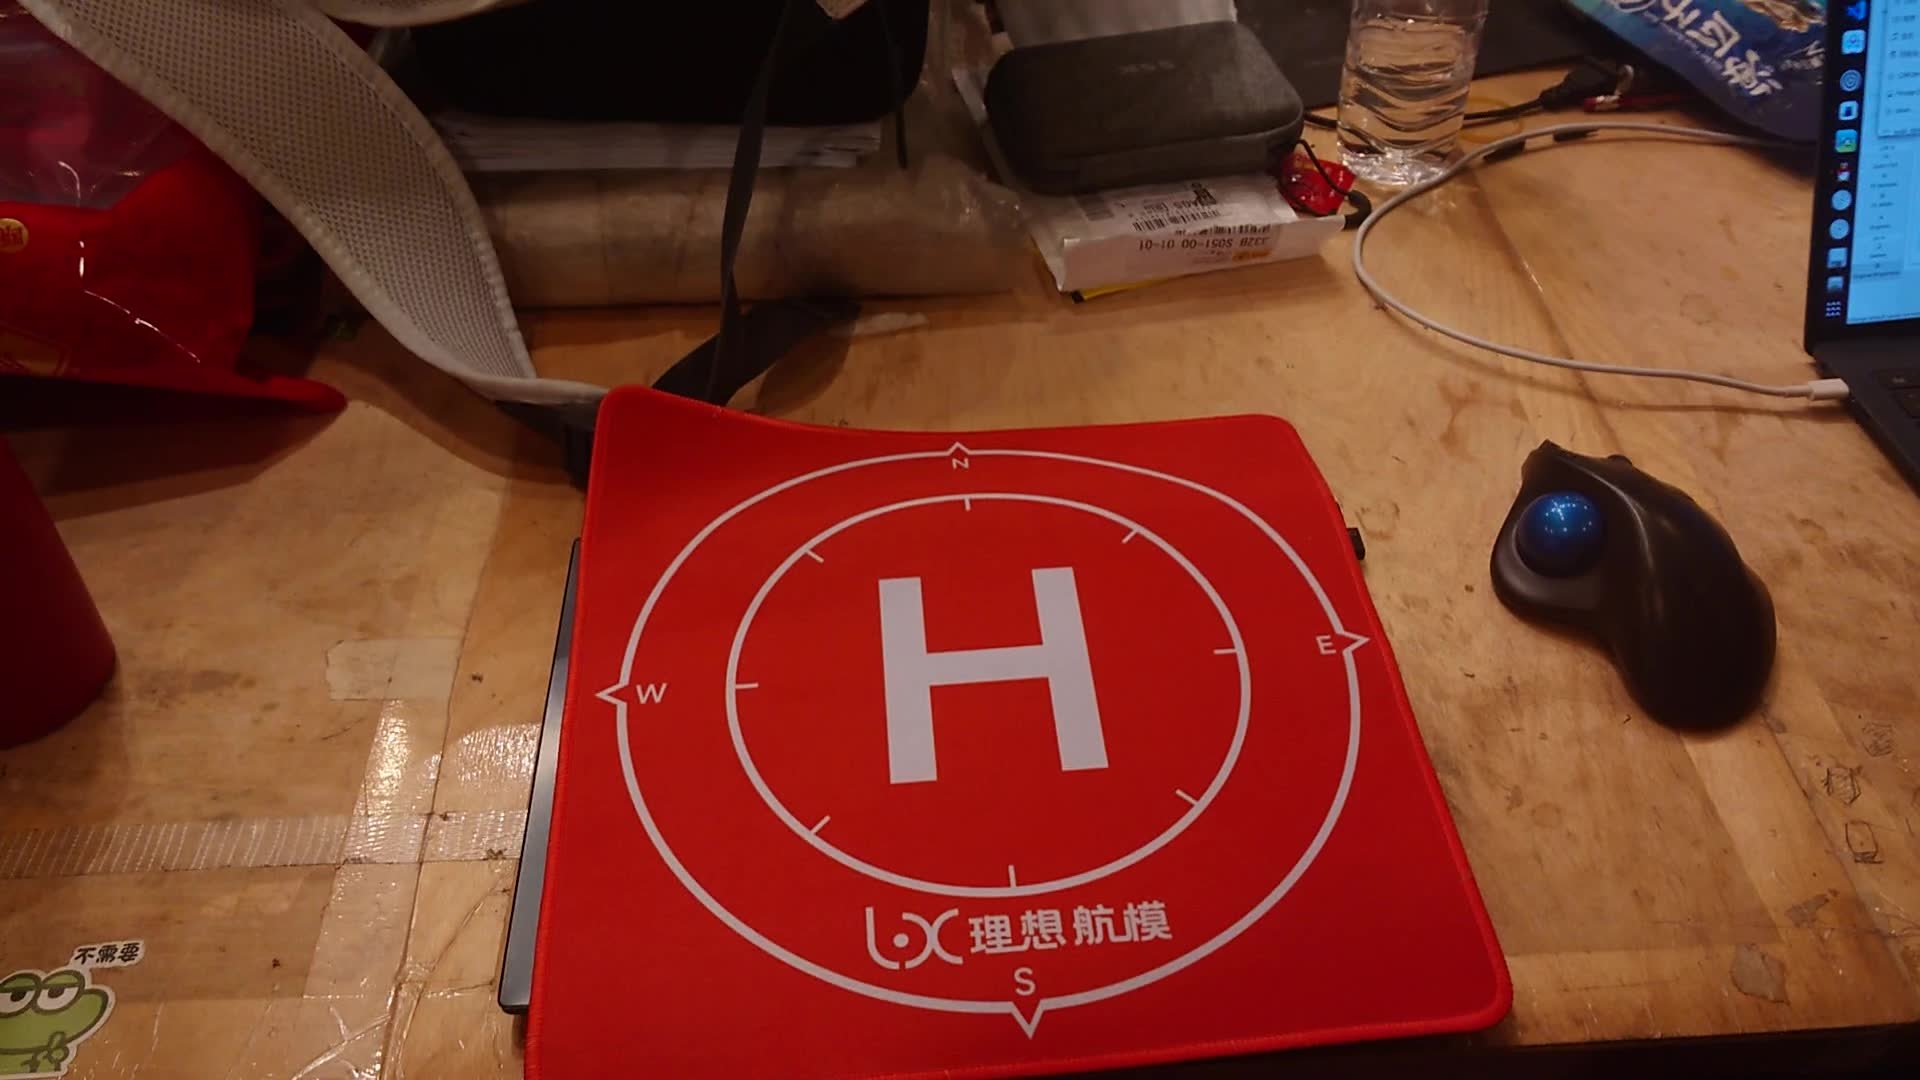H: (881, 566, 1112, 785)
